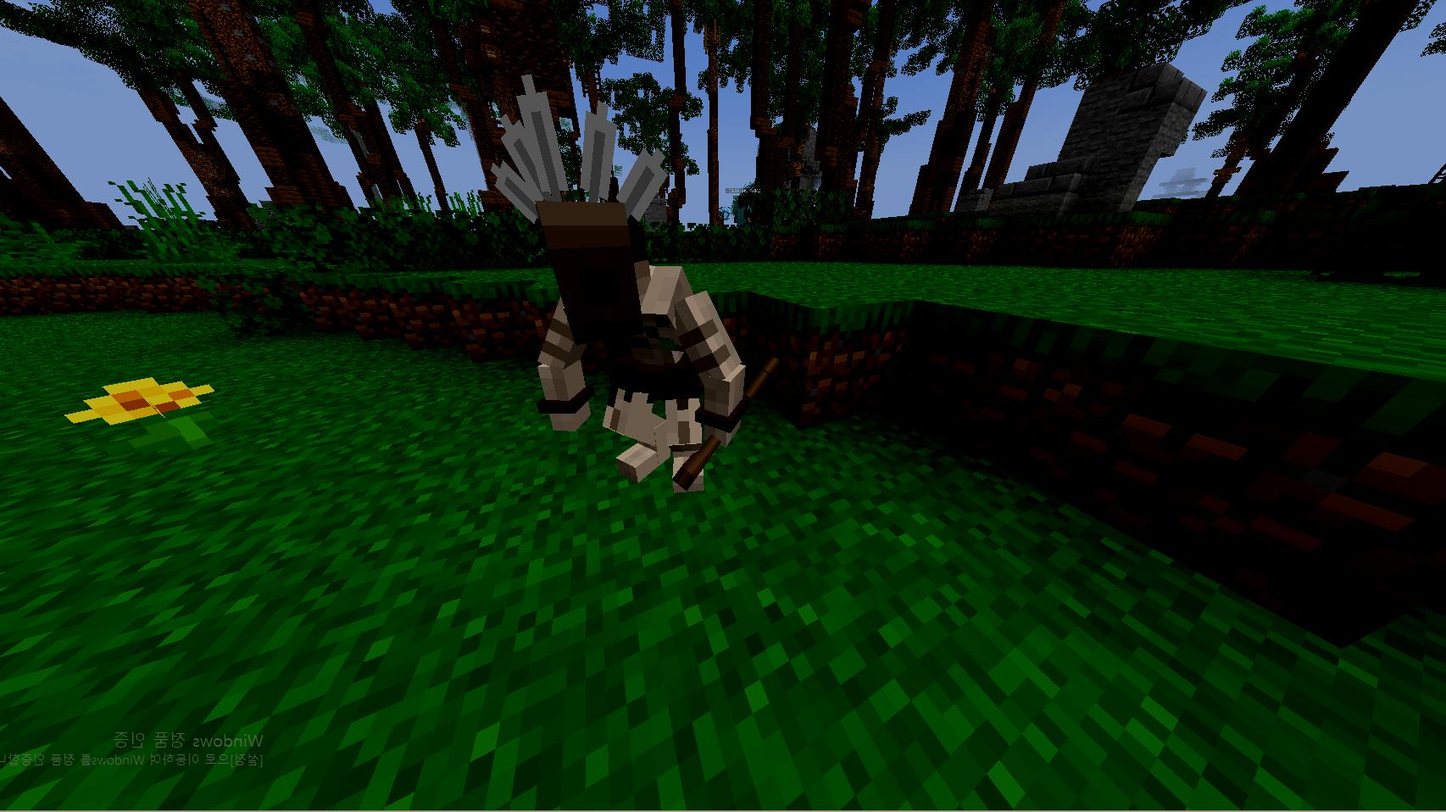bow_indian: (488, 140, 753, 516)
